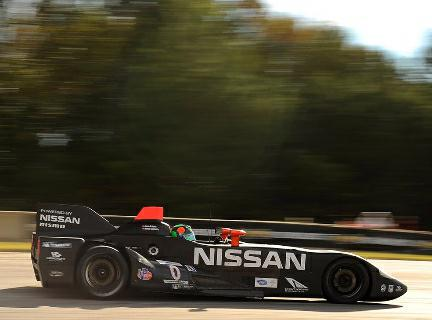日产-DeltaWing: (30, 193, 412, 310)
